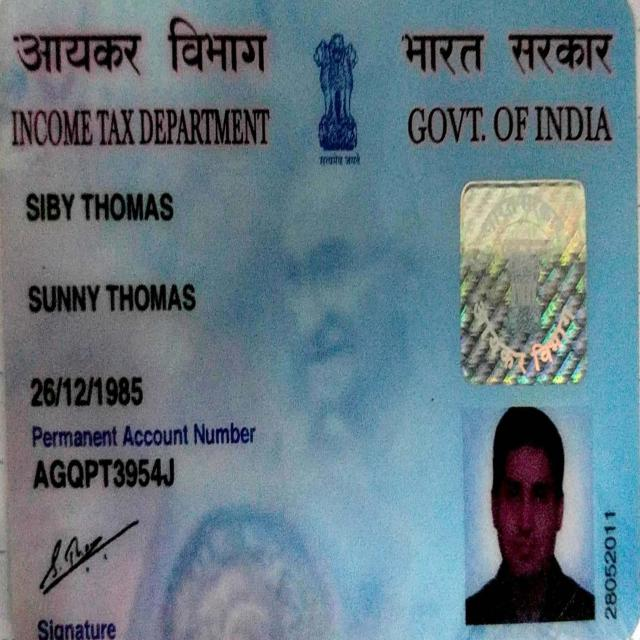pan_card: (1, 2, 640, 640)
